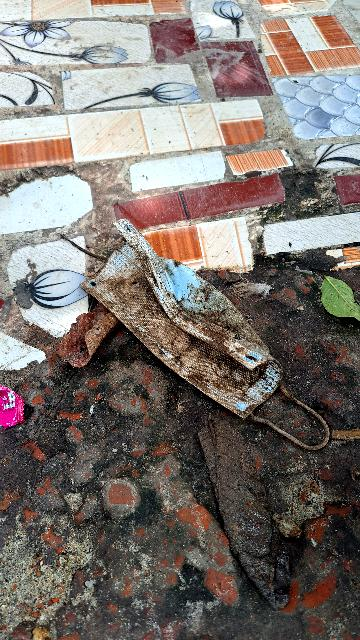mask: (64, 201, 353, 456)
